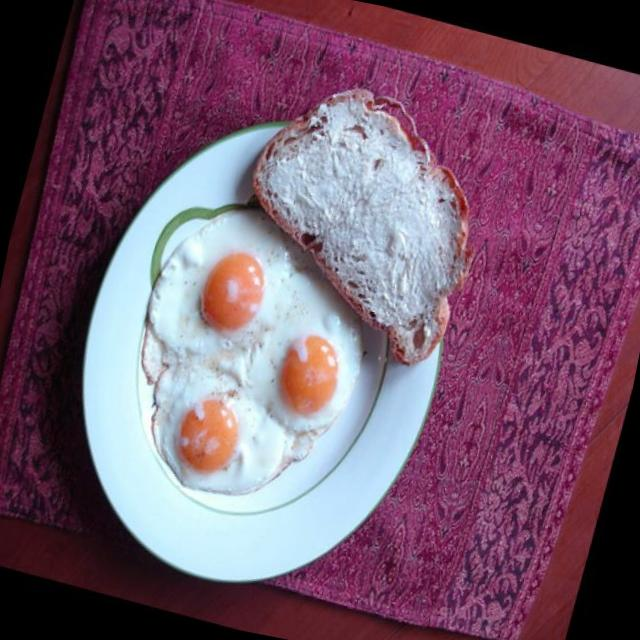Bread: (211, 59, 516, 386)
Egg: (130, 176, 308, 390), (128, 351, 302, 524), (242, 278, 382, 458)
